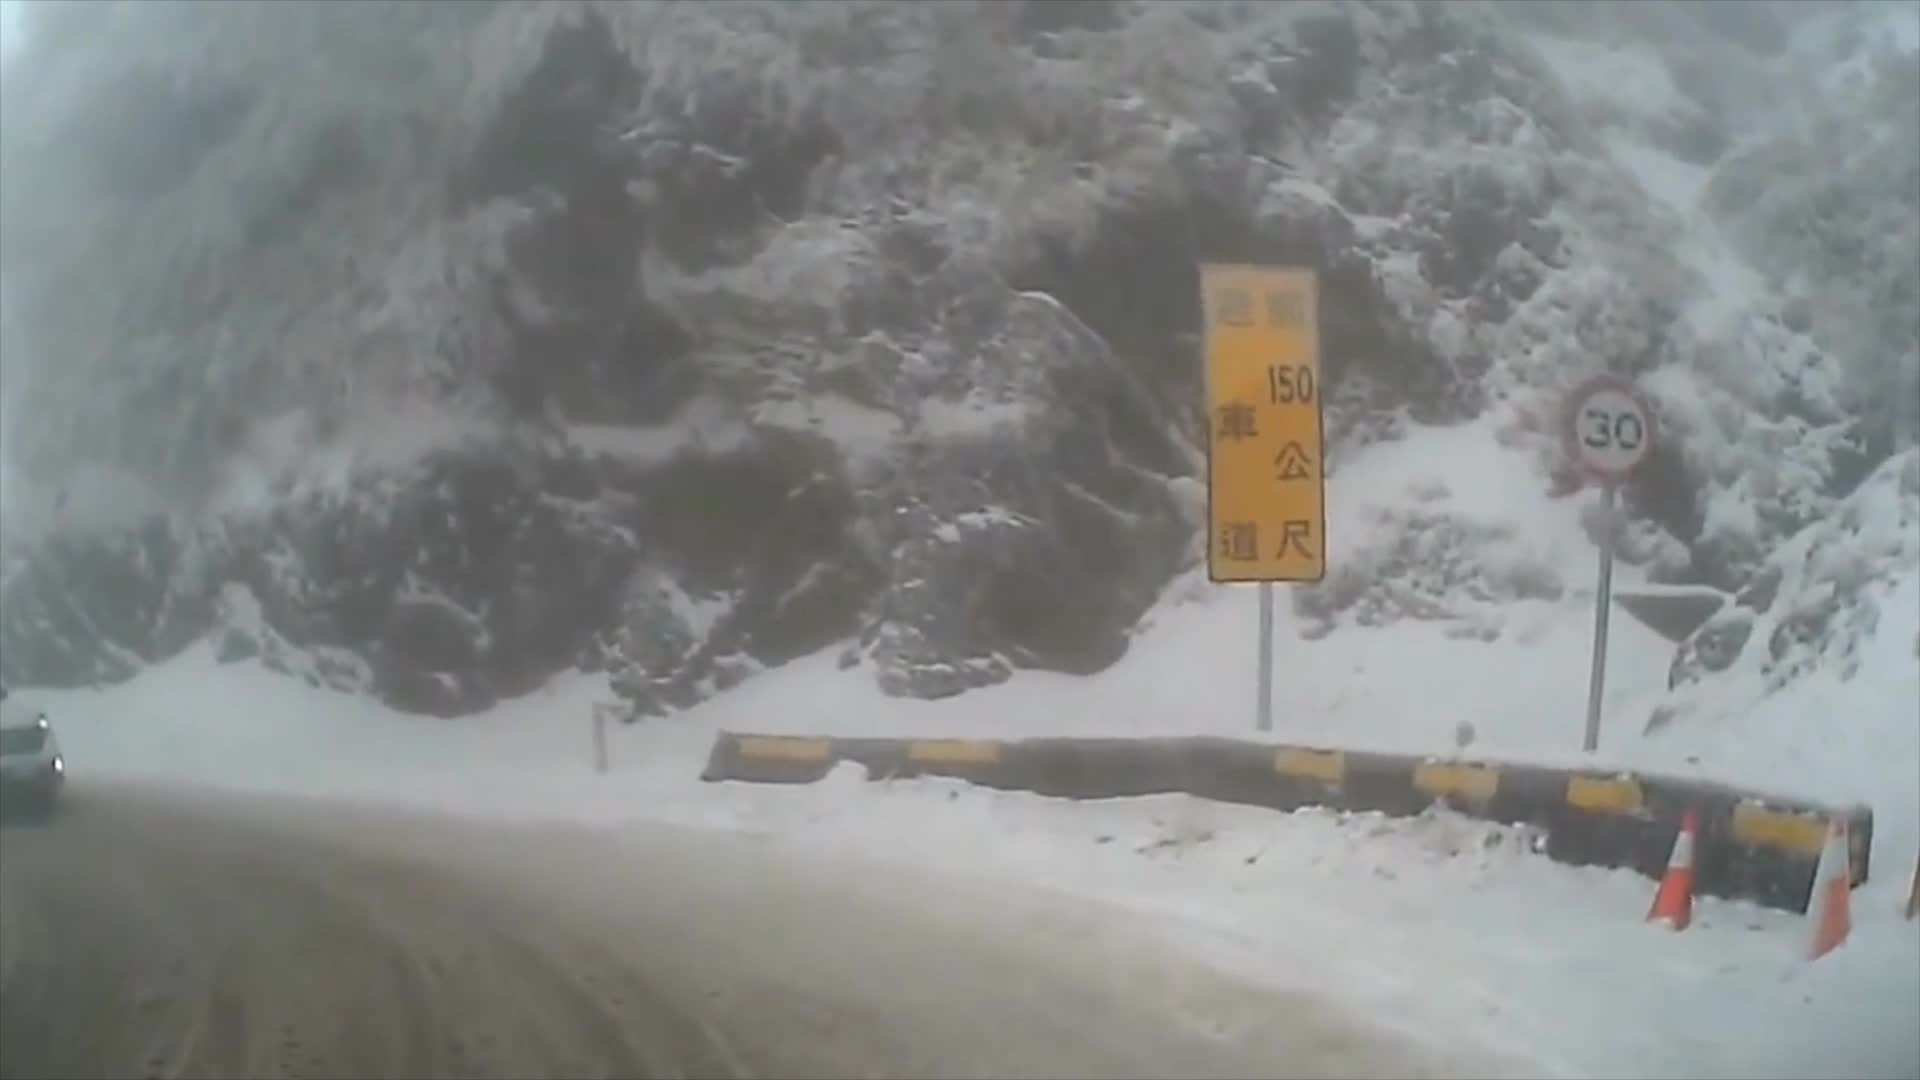vehicle: (0, 680, 61, 814)
